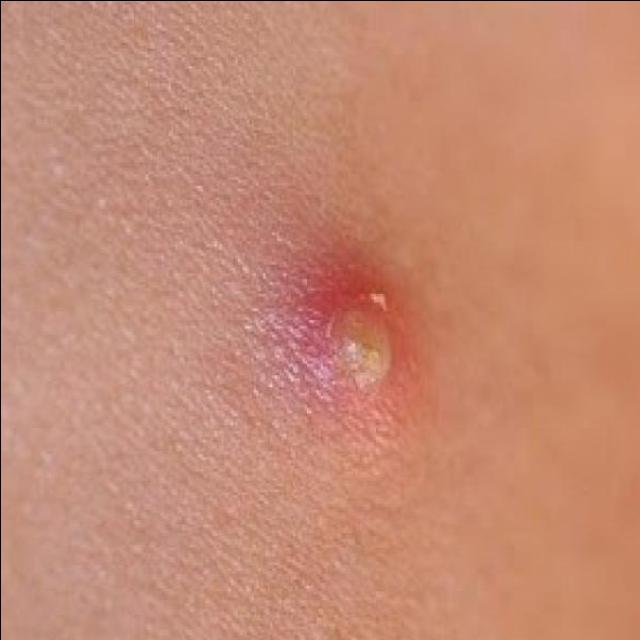pustule: (256, 250, 468, 426)
